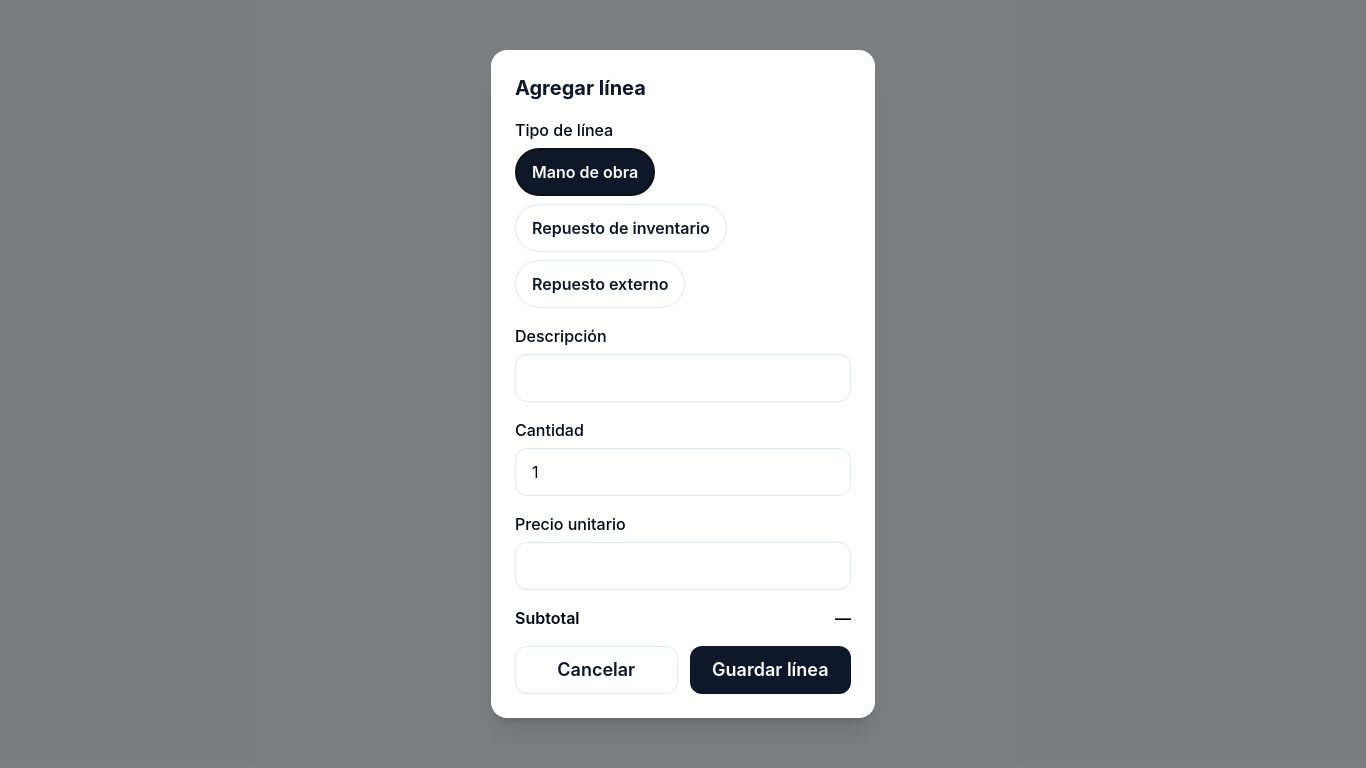
Test: LineEditorDialog › rejects a part line with no item selected
Click the button "Repuesto de inventario". click: (621, 228)
box: [515,204,727,252]
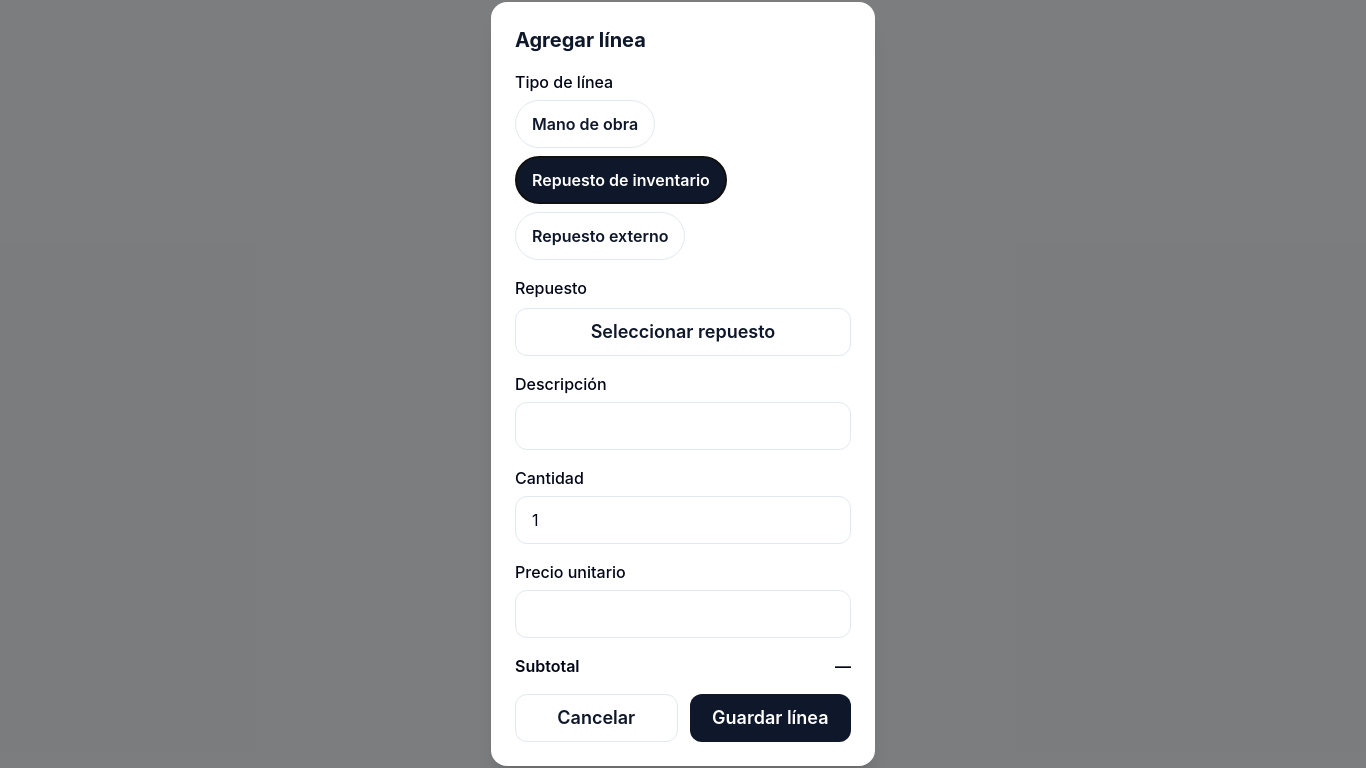
Type "Filtro de aceite" into the field labelled "Descripción". click: (683, 426)
box: [515,402,851,450]
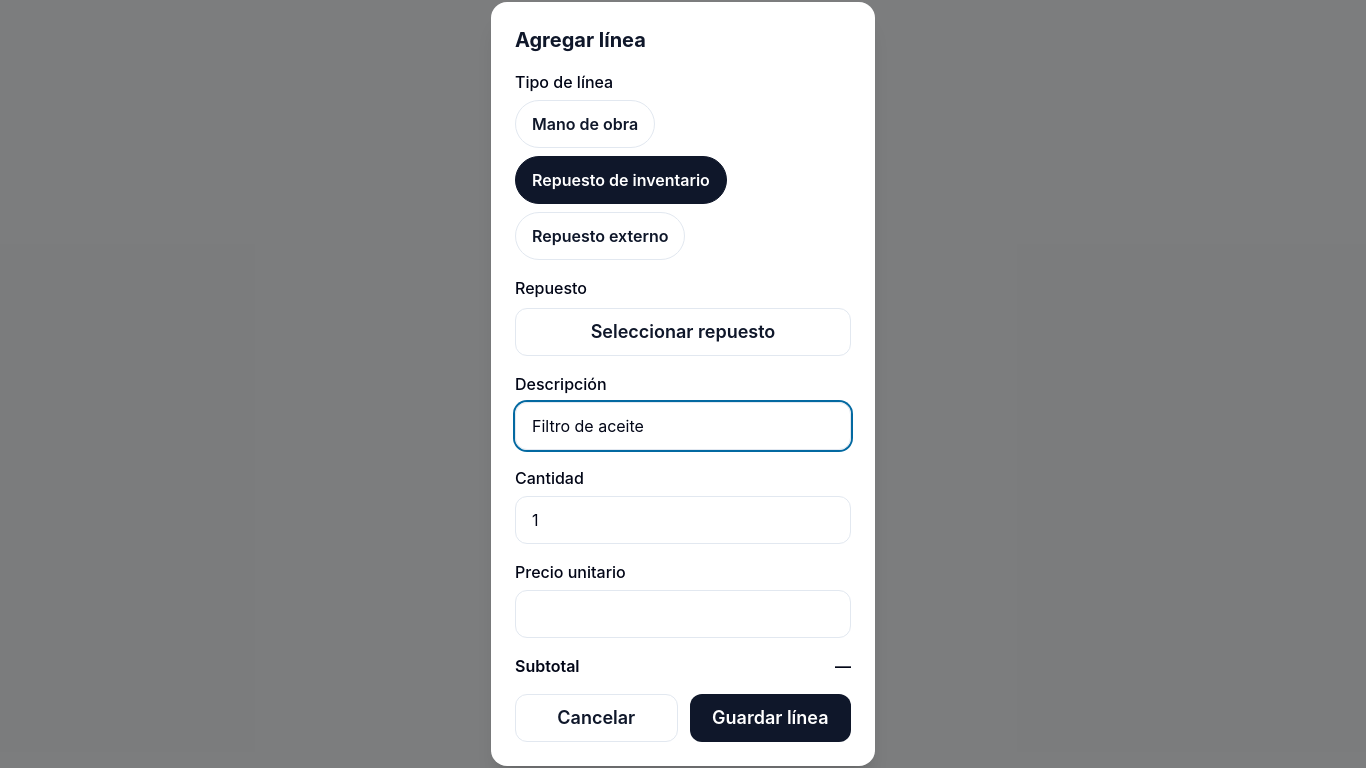
Type "150" into the field labelled "Precio unitario". click: (683, 614)
box: [515,590,851,638]
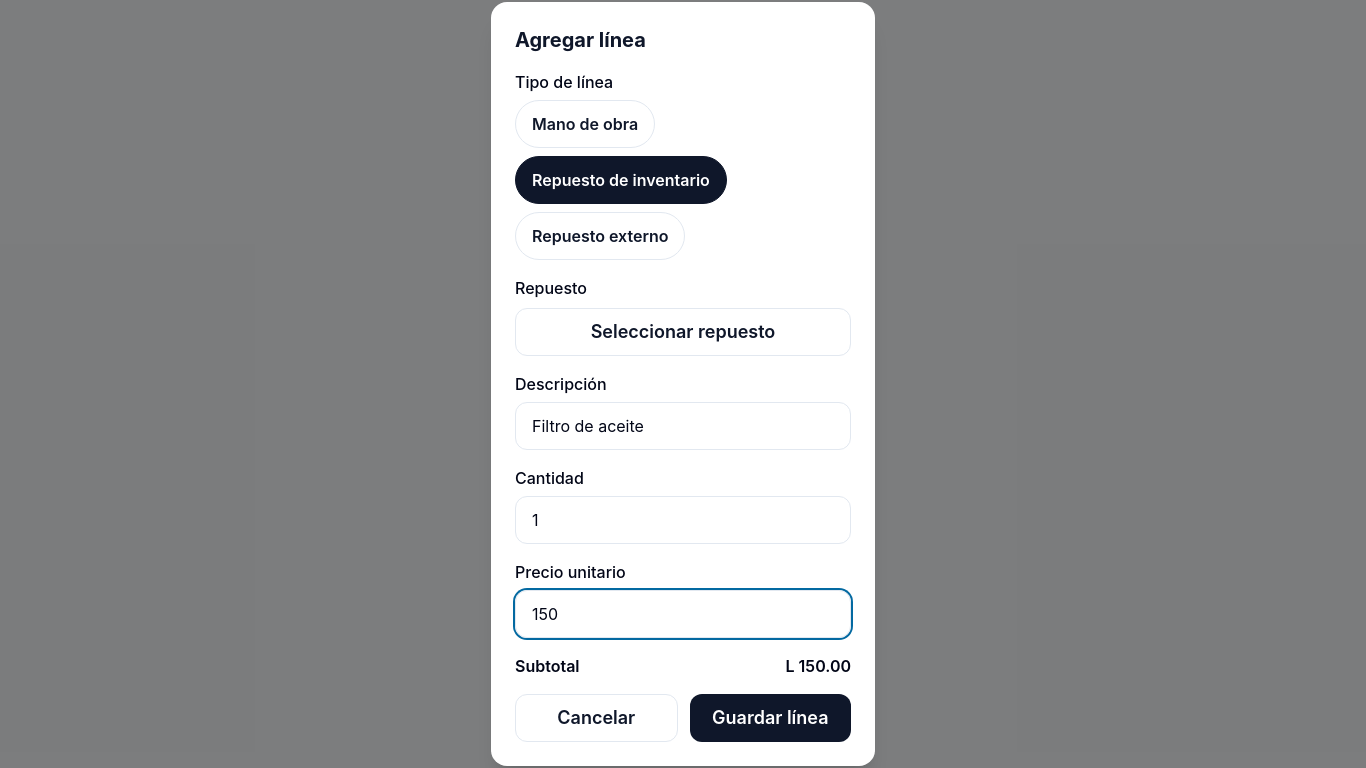
Click the button "Guardar línea". click: (770, 718)
box: [690,694,851,742]
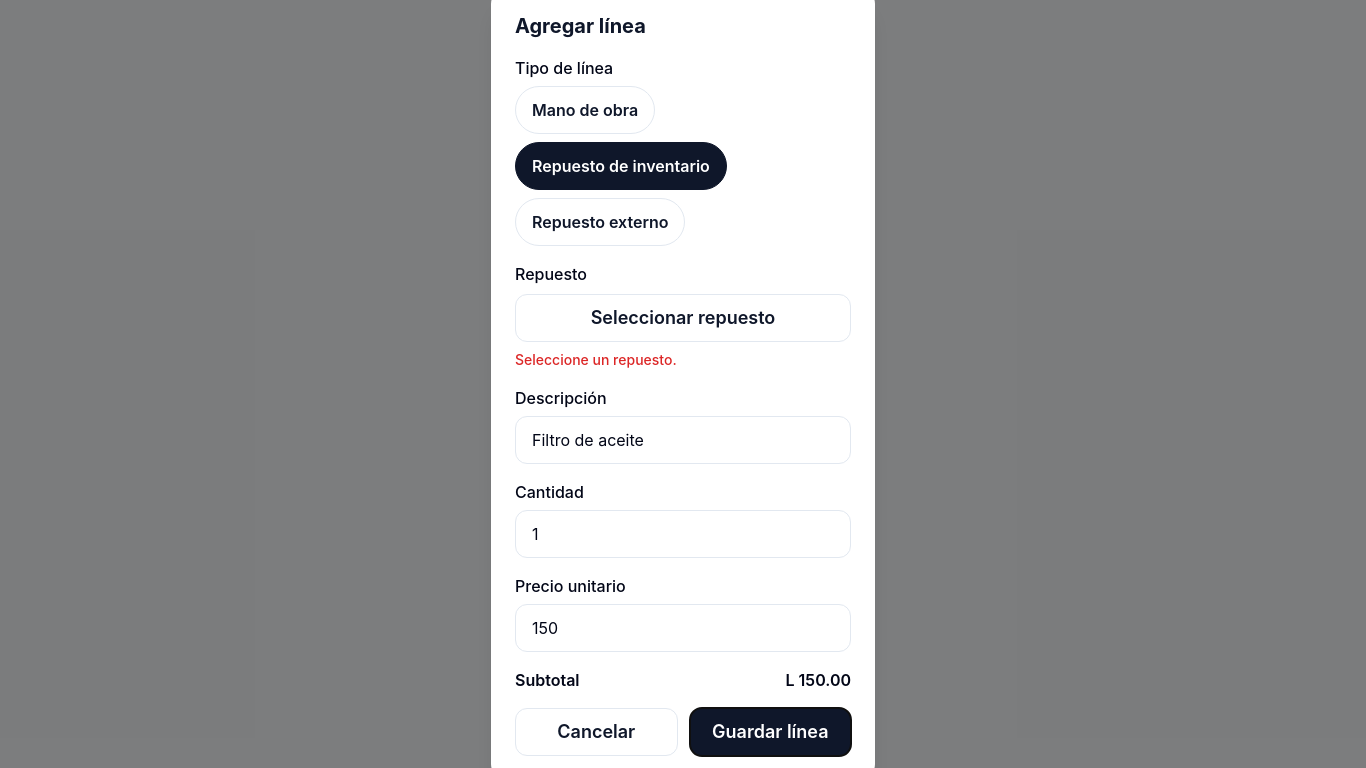
Now the text "Seleccione un repuesto." is shown, box [515,351,677,368]
